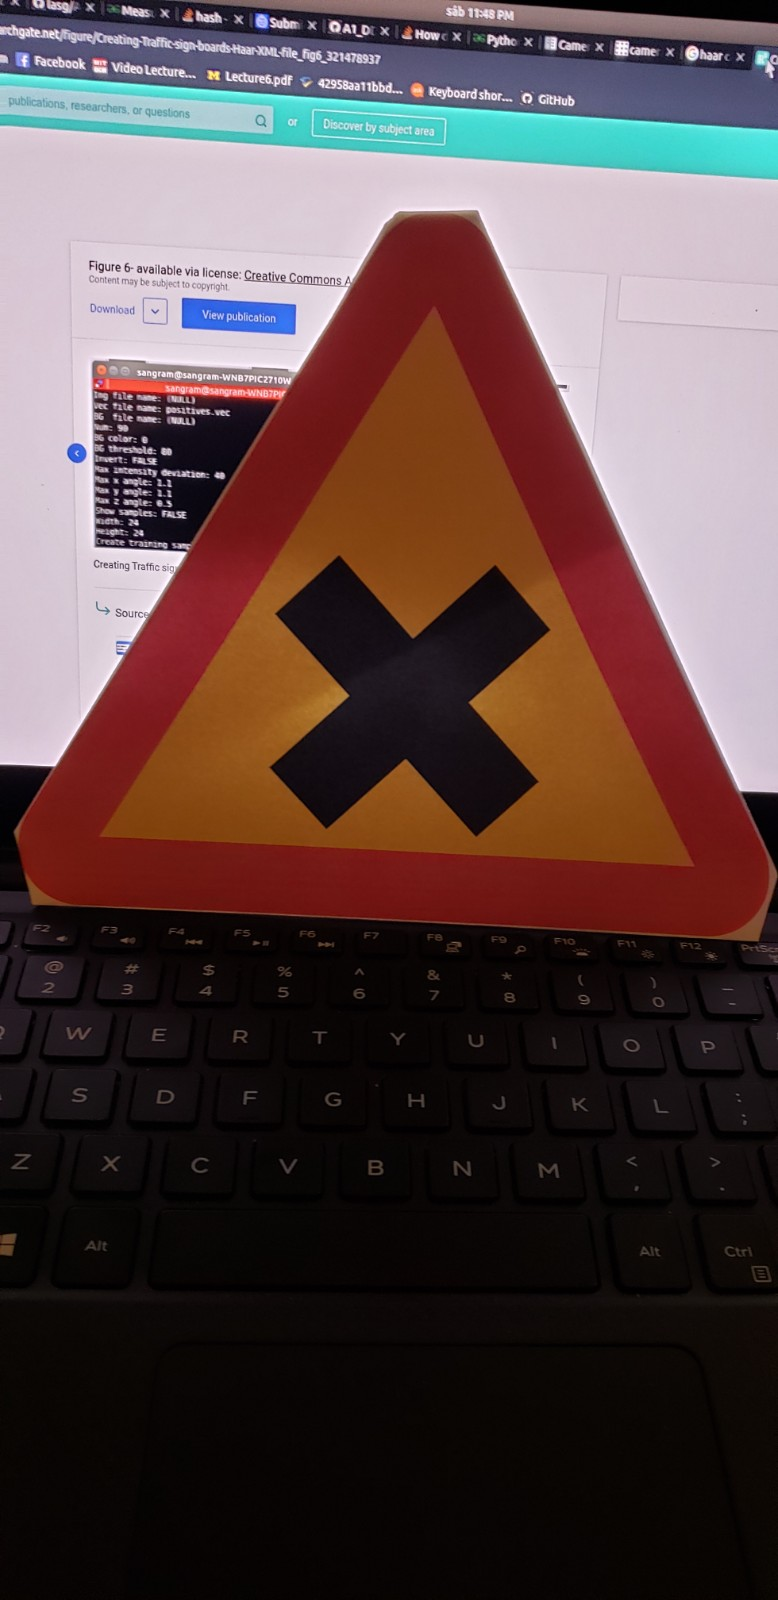junction: (25, 178, 776, 993)
